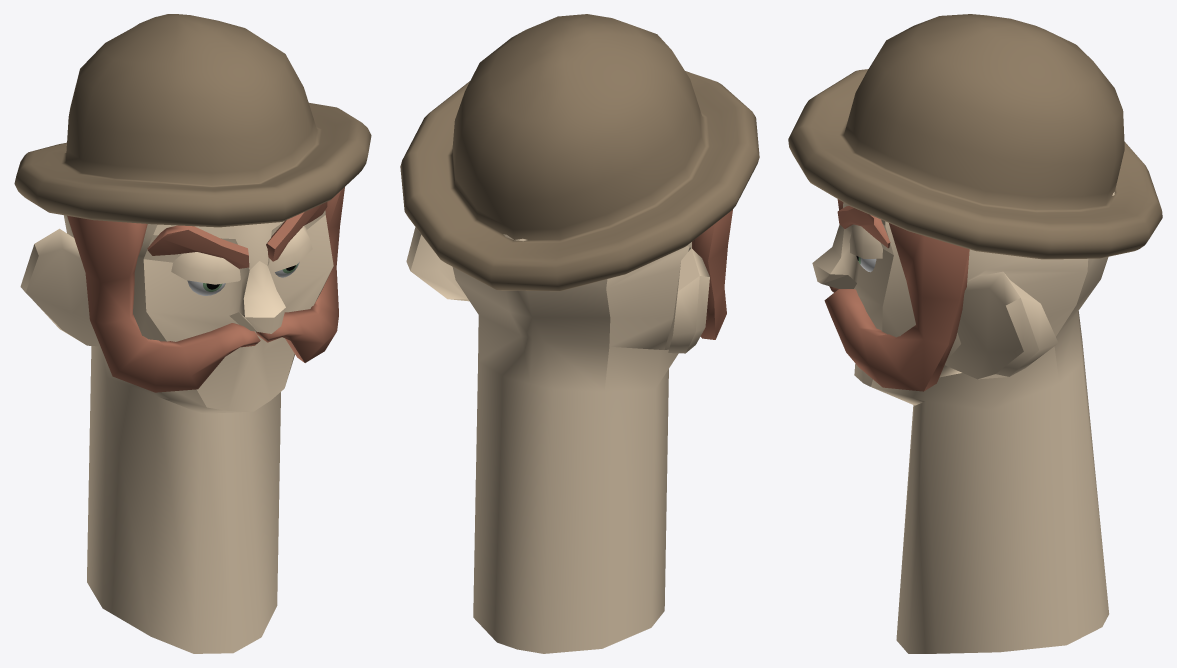
File: Cliente2_head.fbx
3 views of the same model, side by side, from view 1: azimuth 30°, elevation 25°; view 2: azimuth 150°, elevation 25°; view 3: azimuth 270°, elevation 25° (orthographic). The views are drawn at different scales.
Visible parts, largest first — view 1: head, gorro, pelo1, cejas, parpados, ojos1; view 2: head, gorro, pelo1; view 3: head, gorro, pelo1, cejas, parpados.
Part boxes in pixels (x1,y1,x2,y2): head: (20, 210, 333, 653); gorro: (14, 14, 371, 227); pelo1: (67, 187, 344, 392); cejas: (147, 202, 327, 268); parpados: (171, 226, 312, 284); ojos1: (187, 262, 299, 295); head: (406, 227, 709, 653); gorro: (400, 14, 759, 291); pelo1: (692, 209, 732, 339); head: (812, 192, 1114, 653); gorro: (788, 14, 1162, 259); pelo1: (824, 223, 969, 391); cejas: (837, 199, 890, 248); parpados: (849, 224, 882, 258).
Bounding box in the file's own units: 0.3502 × 0.6395 × 0.3517.
